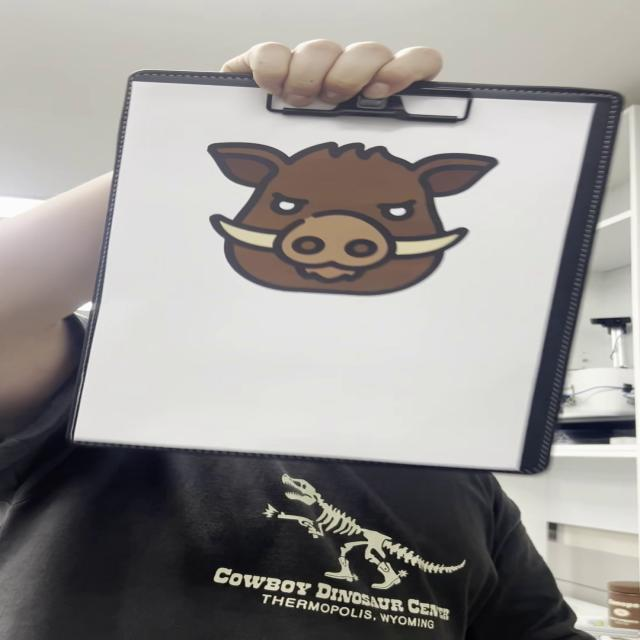animal: (200, 140, 498, 298)
